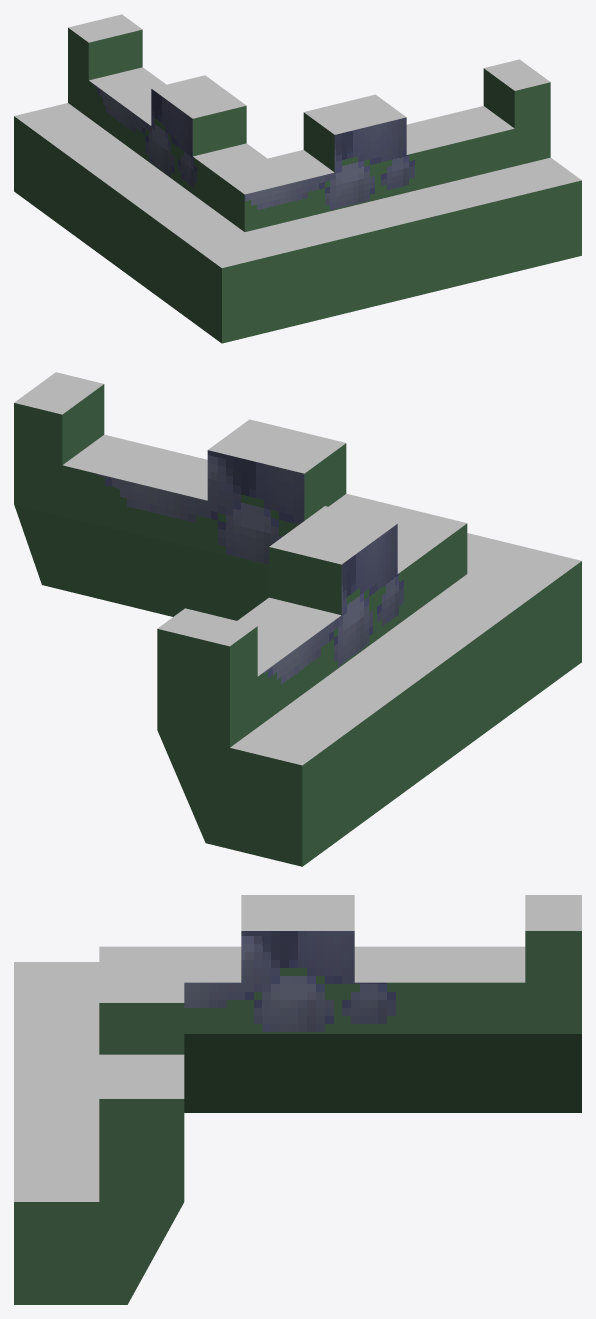
The model's file is battlement_cornerInner.dae.
3 renders of one model, top to bottom at view 1: azimuth 30°, elevation 25°; view 2: azimuth 150°, elevation 25°; view 3: azimuth 270°, elevation 25°, orthographic. The views are drawn at different scales.
Parts seen in each view (by area): view 1: battlement_cornerInner; view 2: battlement_cornerInner; view 3: battlement_cornerInner.
Part boxes in pixels (left/top/right/bottom): battlement_cornerInner: left=14, top=14, right=581, bottom=343; battlement_cornerInner: left=14, top=372, right=581, bottom=866; battlement_cornerInner: left=14, top=895, right=581, bottom=1304.
Bounding box in the file's own units: 1 × 0.4 × 1.
